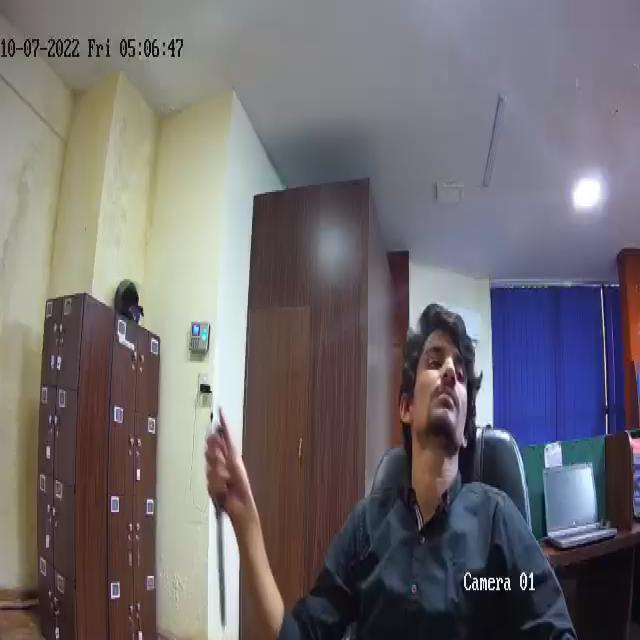weapon: (210, 428, 230, 630)
